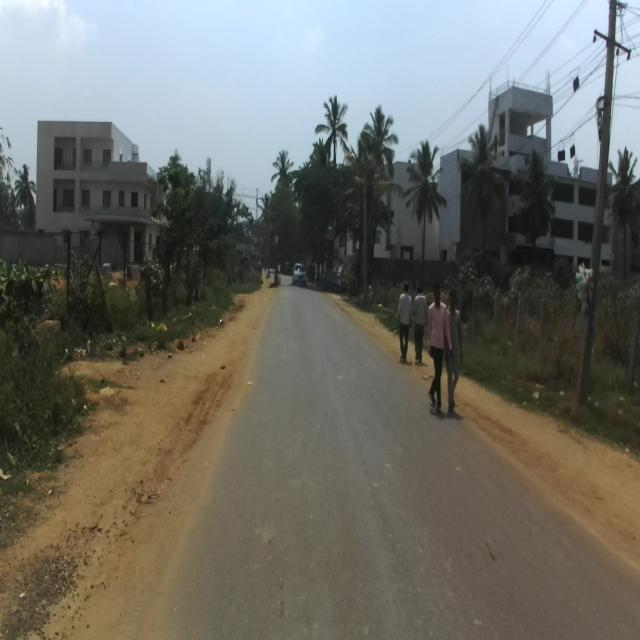electric pole ahead at: (574, 0, 634, 414)
person ahead at: (426, 281, 456, 414)
